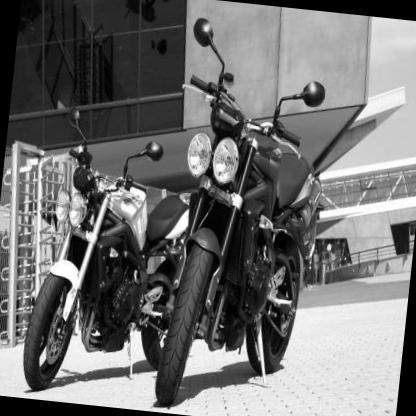moto: (164, 49, 353, 399), (12, 124, 198, 394)
